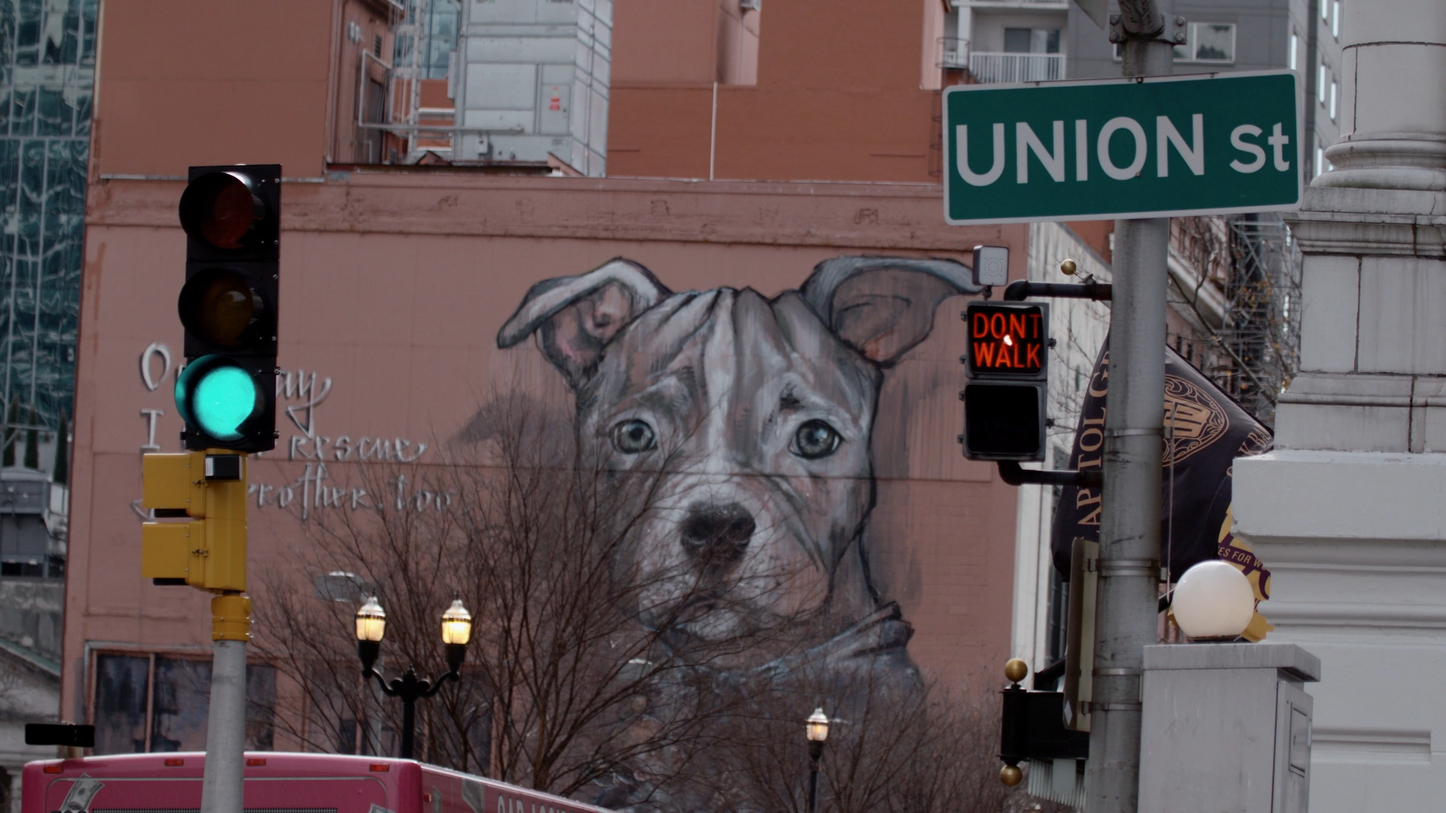green traffic light: (177, 170, 283, 485)
